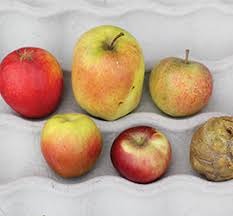apple: (42, 113, 106, 182), (2, 48, 67, 112), (113, 130, 175, 185)
damaged_apple: (76, 33, 160, 120), (148, 54, 224, 115), (189, 113, 233, 180)
